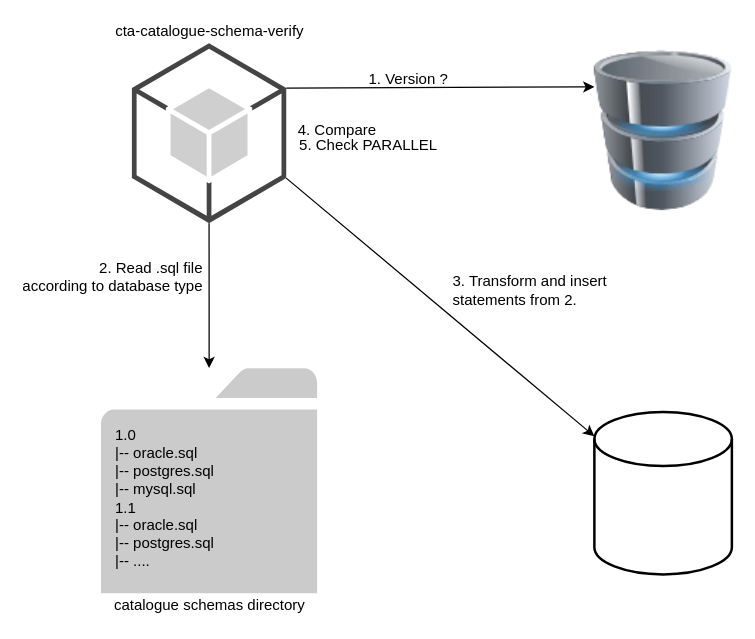
This 755x639 diagram has some shape labels left out. The box of each missing label's shape, as (x1, y1, x2, y2) in pixels:
Catalogue database: (594, 42, 731, 218)
In Memory SQLite: (592, 410, 732, 575)
